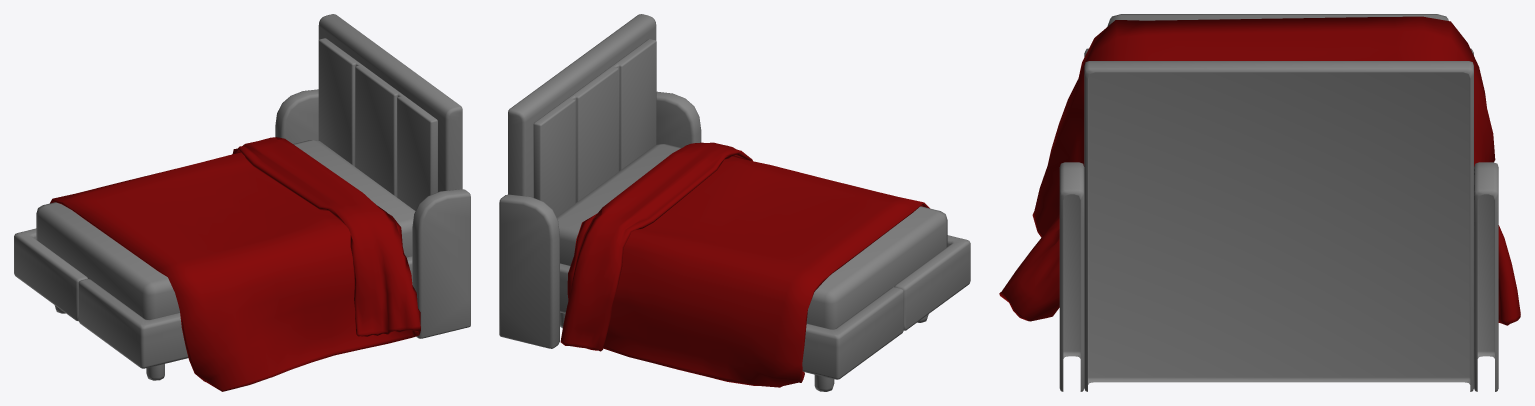
Rendered from SM_Bed.fbx.
3 renders of one model, left to right at view 1: azimuth 30°, elevation 25°; view 2: azimuth 150°, elevation 25°; view 3: azimuth 270°, elevation 25°, orthographic. The views are drawn at different scales.
Visible parts, largest first — view 1: bedding, bed; view 2: bedding, bed; view 3: bed, bedding.
Part boxes in pixels (x1=…): bedding: x1=50, y1=137, x2=420, y2=391; bed: x1=14, y1=14, x2=470, y2=380; bedding: x1=560, y1=142, x2=929, y2=387; bed: x1=499, y1=14, x2=970, y2=391; bed: x1=1059, y1=14, x2=1498, y2=391; bedding: x1=999, y1=16, x2=1520, y2=325.
Bounding box in the file's own units: 291 × 186 × 271.
